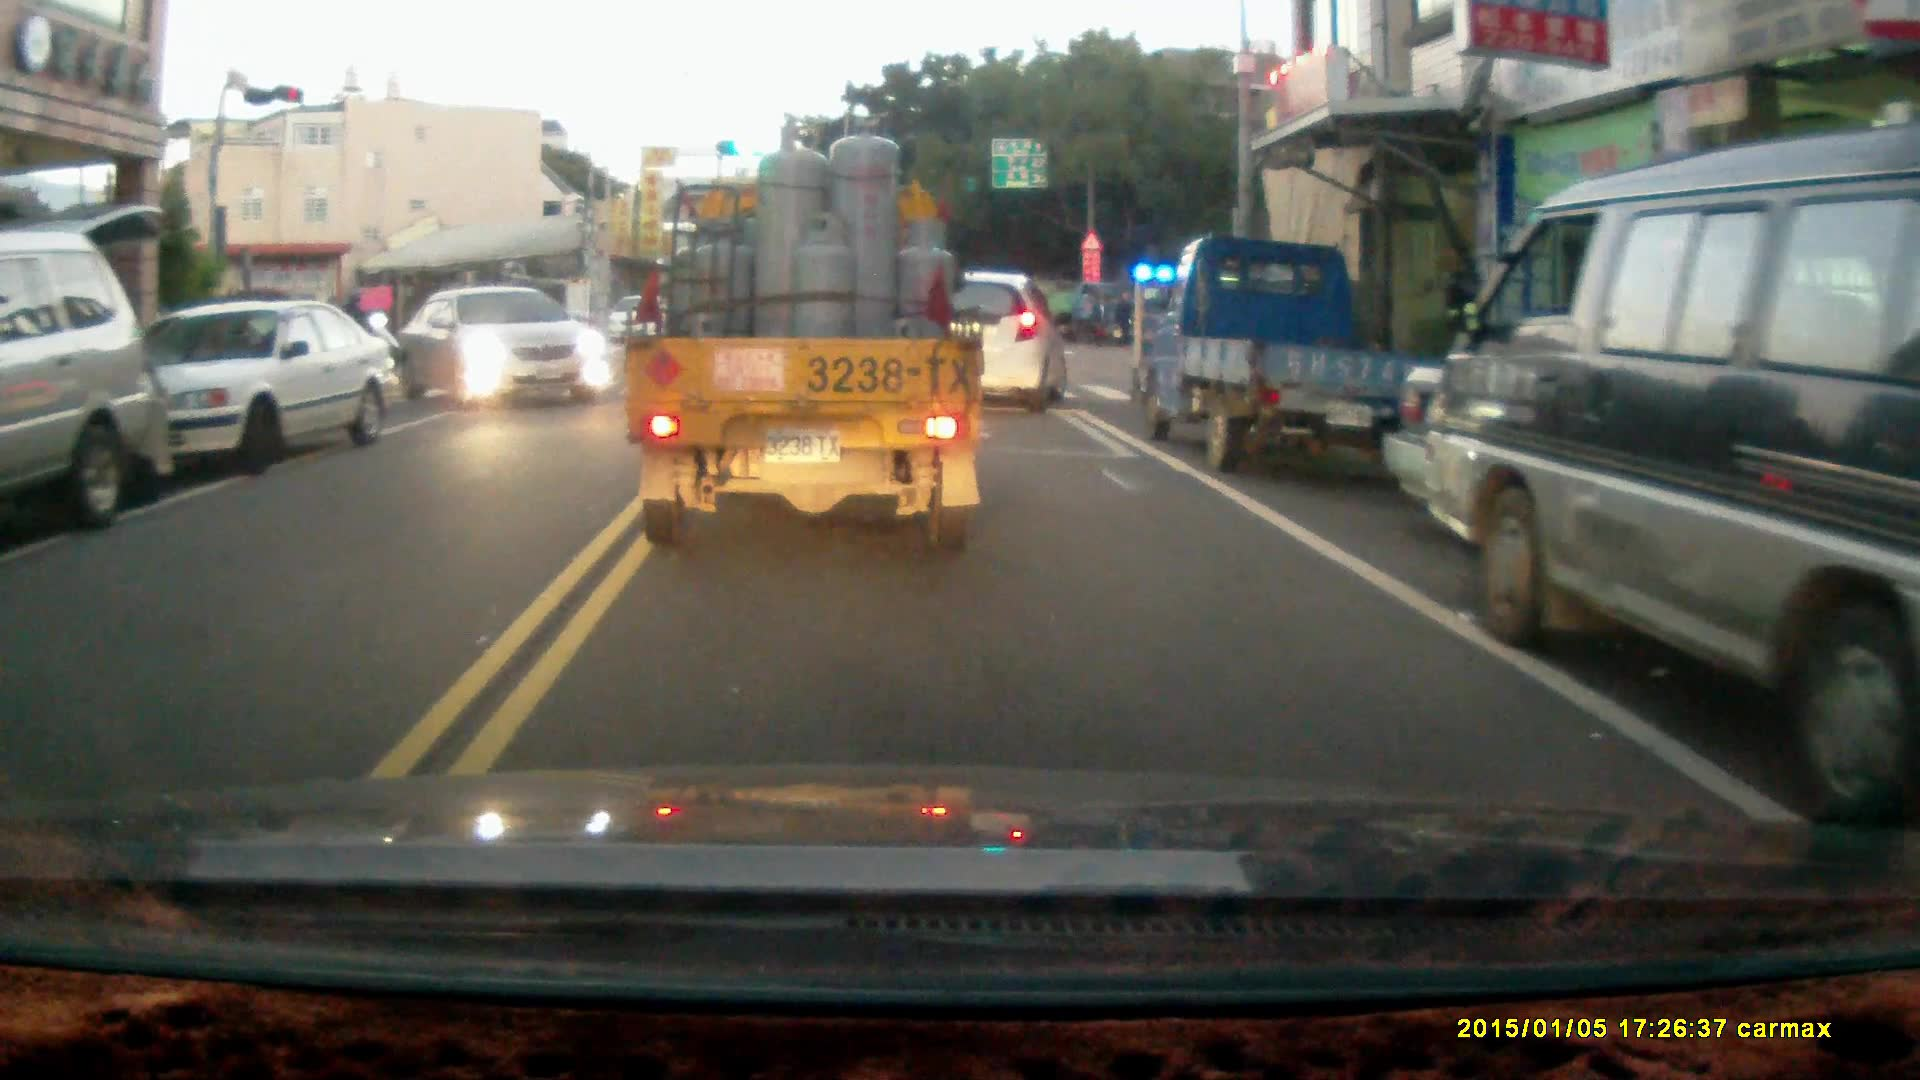vehicle: (1418, 128, 1920, 816), (625, 117, 992, 556), (1135, 237, 1422, 479), (83, 303, 401, 481), (1, 225, 158, 533), (404, 287, 617, 410), (934, 268, 1069, 407)
